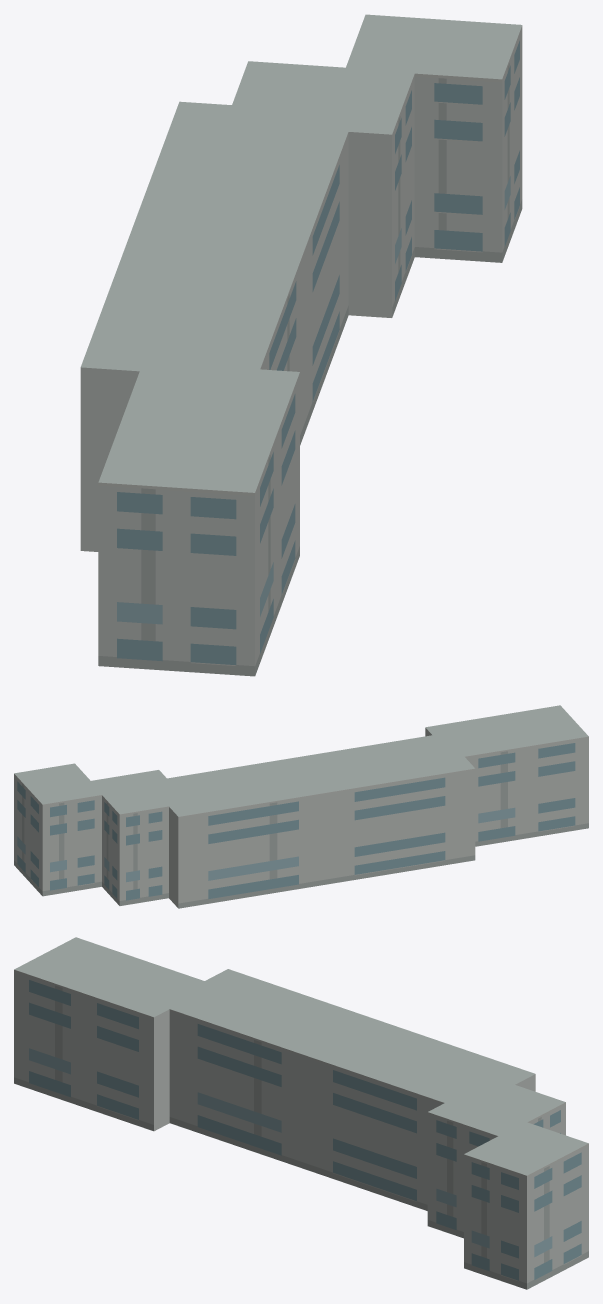
Rendered from residential-cc694dd2-6b92-4ba0-ac5c-b8da7460fe7c.glb.
3 renders of one model, top to bottom at view 1: azimuth 30°, elevation 25°; view 2: azimuth 150°, elevation 25°; view 3: azimuth 270°, elevation 25°, orthographic. The views are drawn at different scales.
Parts seen in each view (by area): view 1: residential-cc694dd2-6b92-4ba0-ac5c-b8da7460fe7c.tmp; view 2: residential-cc694dd2-6b92-4ba0-ac5c-b8da7460fe7c.tmp; view 3: residential-cc694dd2-6b92-4ba0-ac5c-b8da7460fe7c.tmp.
Part boxes in pixels (<box>): residential-cc694dd2-6b92-4ba0-ac5c-b8da7460fe7c.tmp: <box>80,14,522,676</box>; residential-cc694dd2-6b92-4ba0-ac5c-b8da7460fe7c.tmp: <box>14,705,588,908</box>; residential-cc694dd2-6b92-4ba0-ac5c-b8da7460fe7c.tmp: <box>14,937,588,1289</box>.
Bounding box in the file's own units: 68.45 × 15.25 × 69.7.
